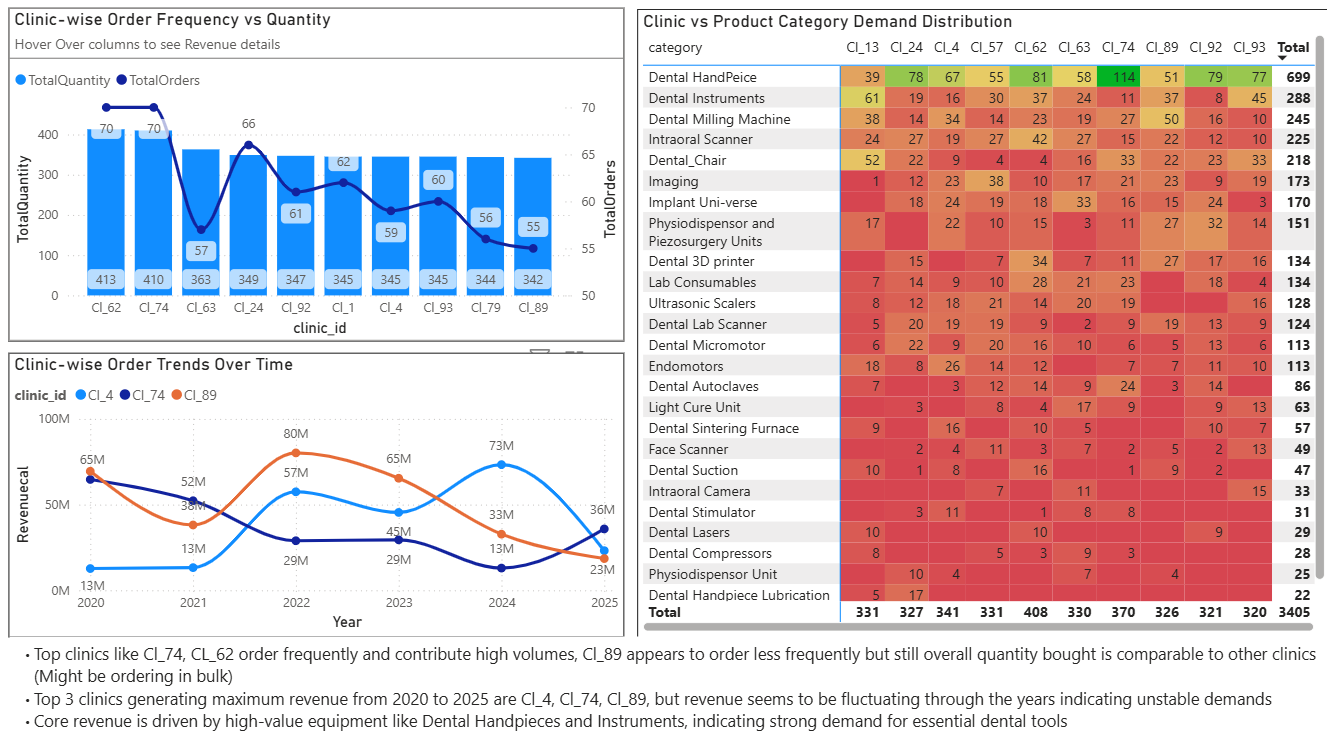

Layout of this report page (visuals, bound fields, positions):
{"tool":"powerbi","page":{"name":"Clinic Insights","canvas":[1280,720],"ordinal":2},"visuals":[{"type":"lineStackedColumnComboChart","title":"Clinic-wise Order Frequency vs Quantity","fields":{"Category":["Orders_cleaned.clinic_id"],"Y":["high_value_product_categories.TotalQuantity"],"Y2":["high_value_product_categories.TotalOrders"]},"box":[12.2,17.6,590.7,320.3],"z":0},{"type":"pivotTable","title":"Clinic vs Product Category Demand Distribution","fields":{"Values":["high_value_product_categories.TotalQuantity"],"Columns":["Orders_cleaned.clinic_id"],"Rows":["Products_cleaned.category"]},"box":[615,18.9,665,602.8],"z":1000},{"type":"lineChart","title":"Clinic-wise Order Trends Over Time","fields":{"Series":["Orders_cleaned.clinic_id"],"Category":["datetable.Year"],"Y":["high_value_product_categories.Revenuecal"]},"box":[12.2,348.5,590.6,272.7],"z":2000},{"type":"textbox","box":[13.5,621.2,1266.9,99],"z":3000}]}

Visuals, with their boxes in screenshot pixels (x1, y1, x2, y2), scaled from the page's 1280x720 canvas onto the 1327x737 screenshot:
"Clinic-wise Order Frequency vs Quantity" lineStackedColumnComboChart: rect(13, 18, 625, 346)
"Clinic vs Product Category Demand Distribution" pivotTable: rect(638, 19, 1326, 636)
"Clinic-wise Order Trends Over Time" lineChart: rect(13, 357, 625, 636)
textbox: rect(14, 636, 1326, 736)
